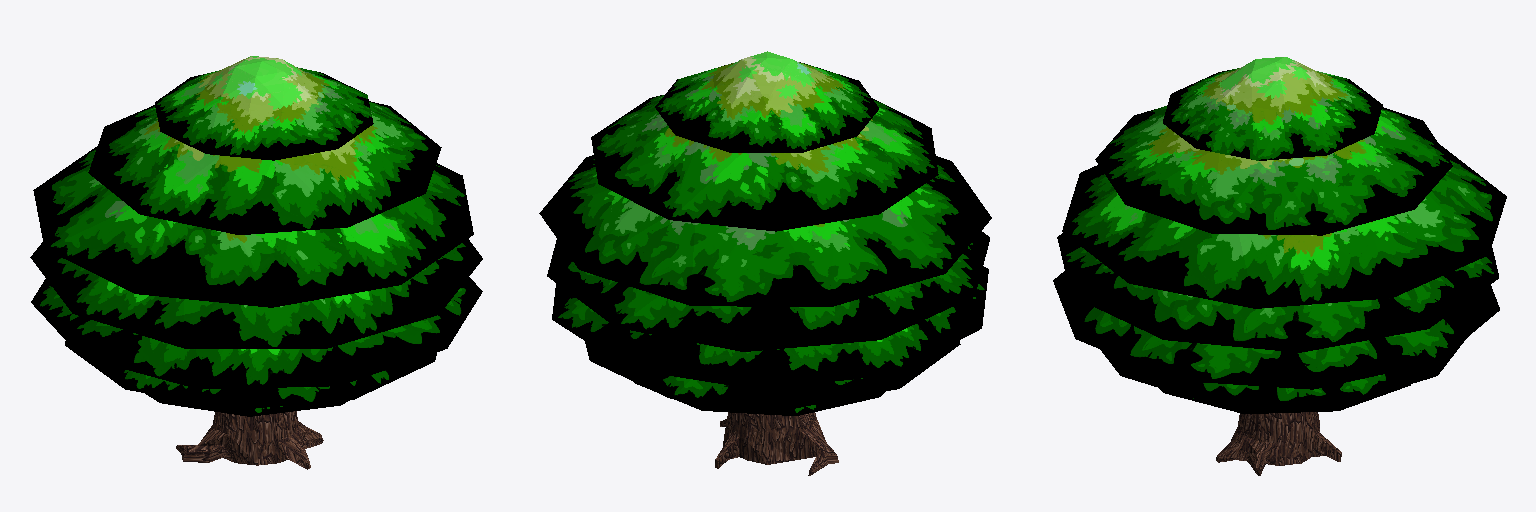
3 renders of one model, left to right at view 1: azimuth 30°, elevation 25°; view 2: azimuth 150°, elevation 25°; view 3: azimuth 270°, elevation 25°, orthographic.
Visible parts, largest first — view 1: Tree; view 2: Tree; view 3: Tree.
Boxes of the visible parts, x1,y1,x2,y2 form: Tree: [30, 56, 482, 469]; Tree: [539, 51, 991, 475]; Tree: [1053, 57, 1506, 475].
Size of the model in its own units: 10.07 by 9.63 by 10.15.
2 materials, 2 textured.